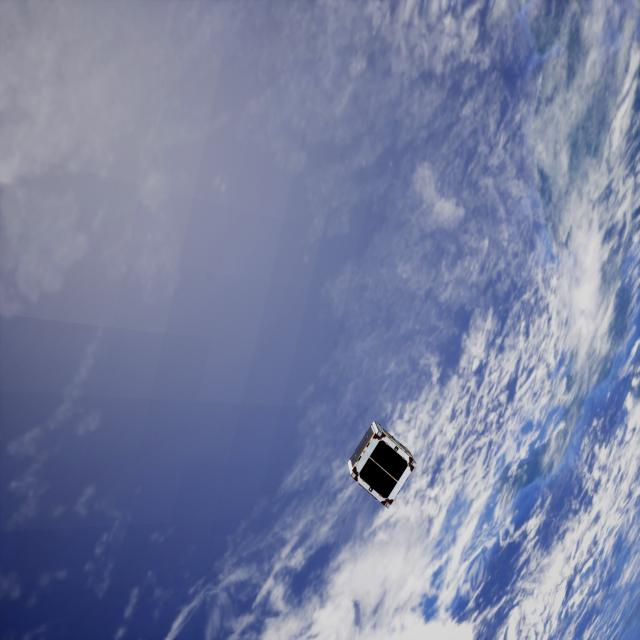medium_debris: (339, 422, 418, 509)
